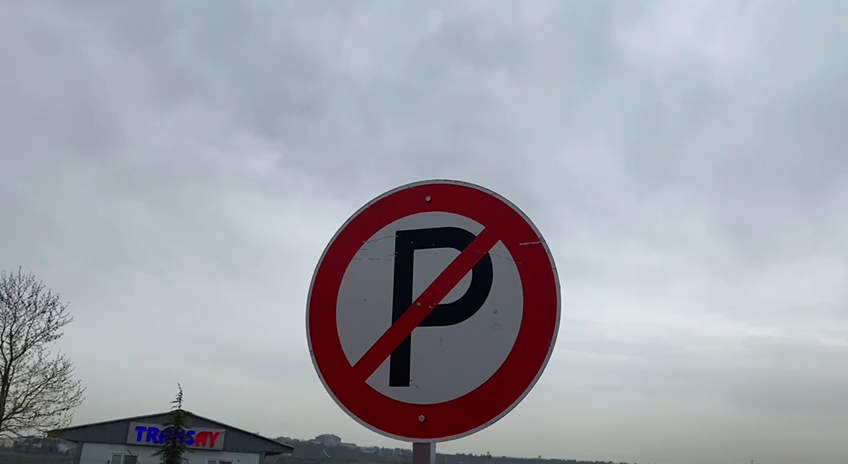noparking: (298, 177, 568, 446)
